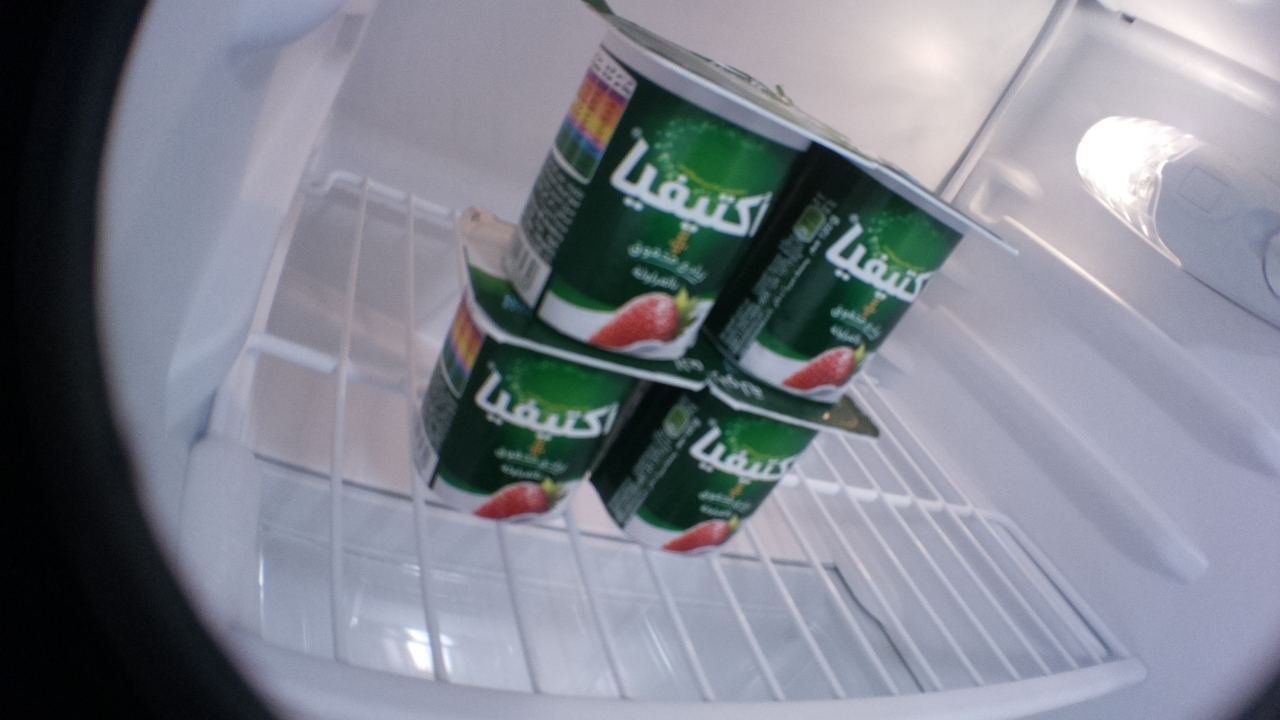yoghurt: (498, 1, 879, 361), (402, 214, 704, 522), (718, 122, 1014, 406), (585, 379, 883, 562)
